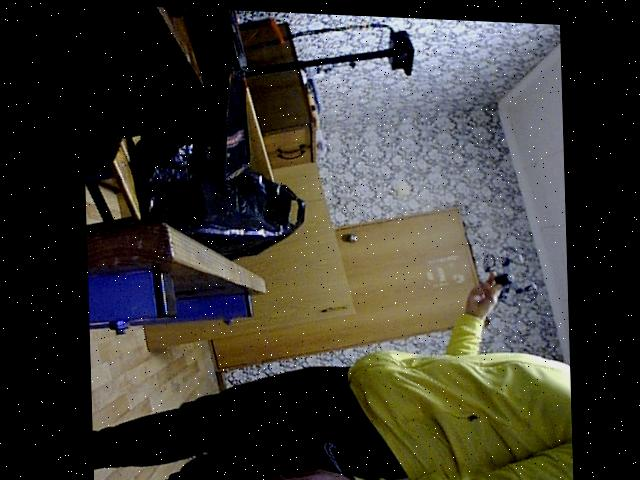drone: (474, 235, 544, 312)
